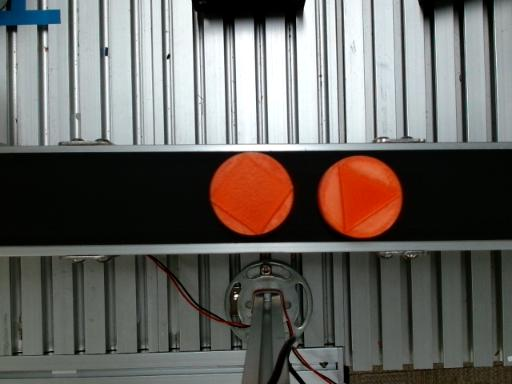Not_Square: (338, 162, 403, 235)
Orange_Waper: (317, 156, 402, 238), (210, 154, 294, 235)
Square: (210, 153, 294, 235)
